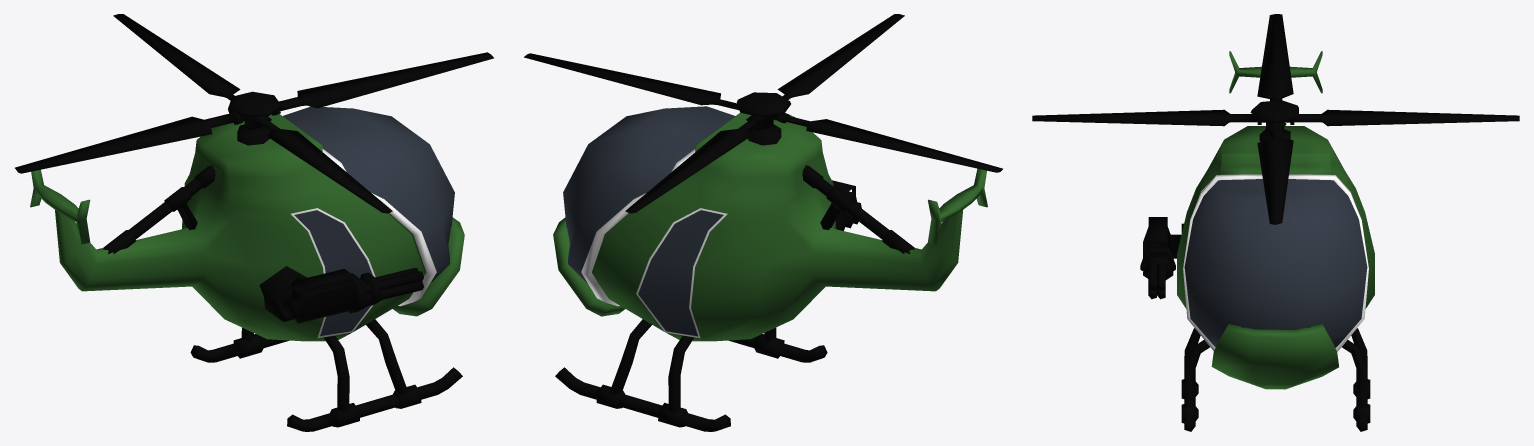
Rendered from Helicopter with machine guns_w.fbx.
The picture shows the model from 3 angles, left to right: view 1: azimuth 30°, elevation 25°; view 2: azimuth 150°, elevation 25°; view 3: azimuth 270°, elevation 25°; orthographic projection. The views are drawn at different scales.
Visible parts, largest first — view 1: helicopter, blades, rocket launcher.001, legs; view 2: helicopter, blades, legs, rocket launcher.001; view 3: helicopter, blades, legs, rocket launcher.001.
Part boxes in pixels (x1=…): helicopter: x1=30, y1=106, x2=464, y2=341; blades: x1=15, y1=14, x2=493, y2=213; rocket launcher.001: x1=259, y1=266, x2=423, y2=323; legs: x1=190, y1=319, x2=462, y2=431; helicopter: x1=553, y1=106, x2=987, y2=341; blades: x1=524, y1=14, x2=1002, y2=213; legs: x1=555, y1=319, x2=827, y2=431; rocket launcher.001: x1=832, y1=180, x2=861, y2=230; helicopter: x1=1177, y1=51, x2=1374, y2=389; blades: x1=1032, y1=14, x2=1519, y2=224; legs: x1=1181, y1=328, x2=1370, y2=431; rocket launcher.001: x1=1140, y1=217, x2=1183, y2=299.
Size of the model in its own units: 336 by 205 by 331.
